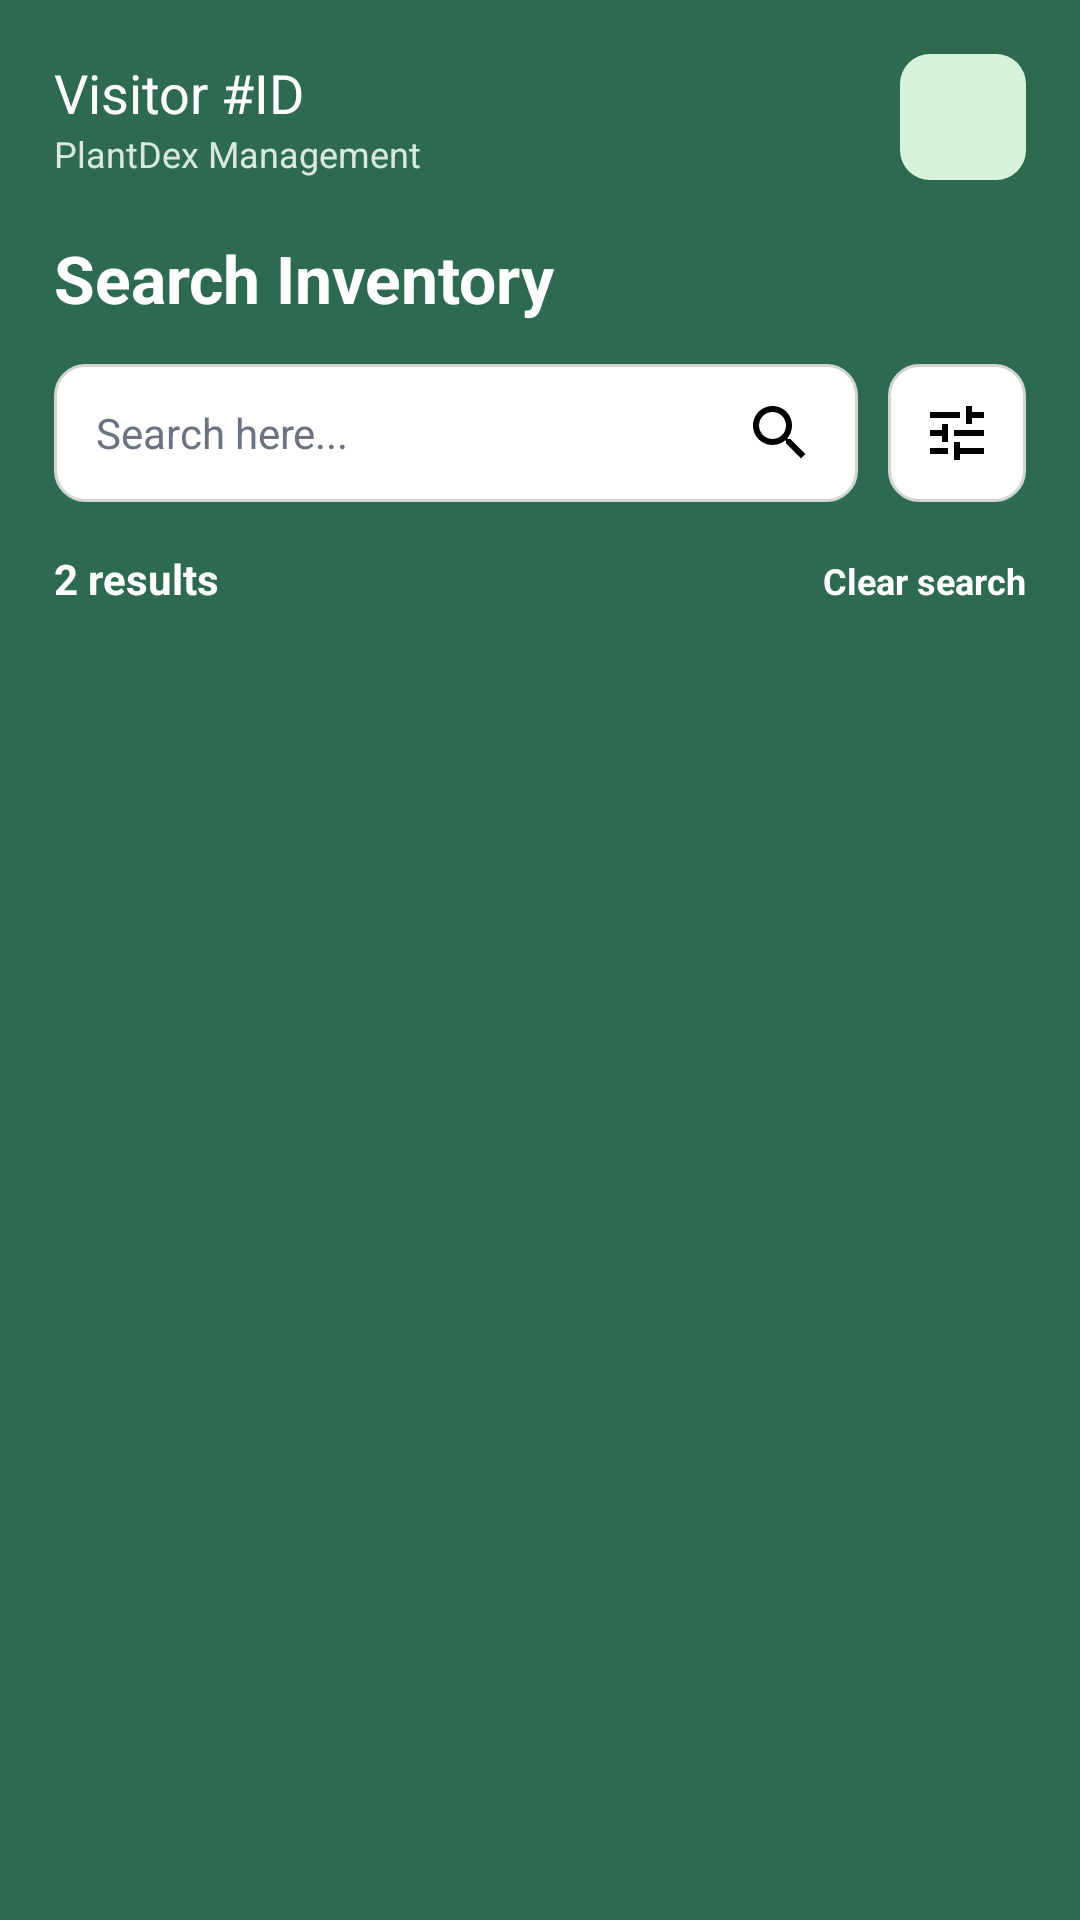

Icons on this 1080w x 1920h Android screen, each with its box as BBox(x1, y1, x2, y2):
Filter: BBox(888, 364, 1026, 502)
